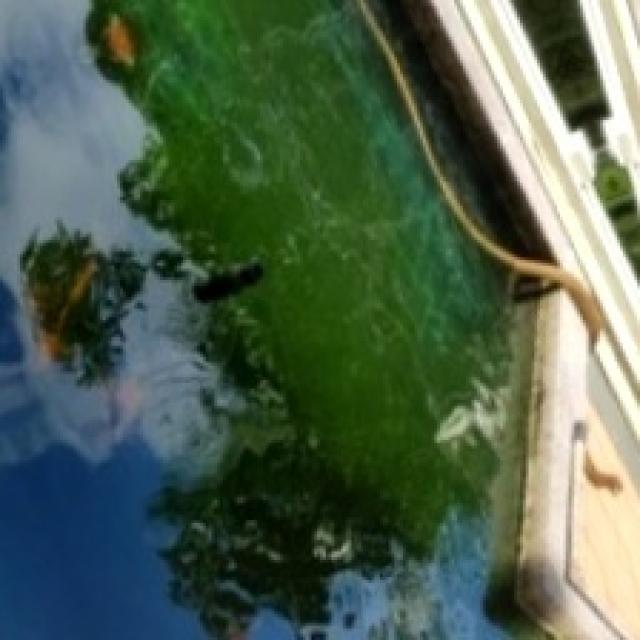king cobra: (354, 0, 603, 340), (357, 0, 603, 343)
